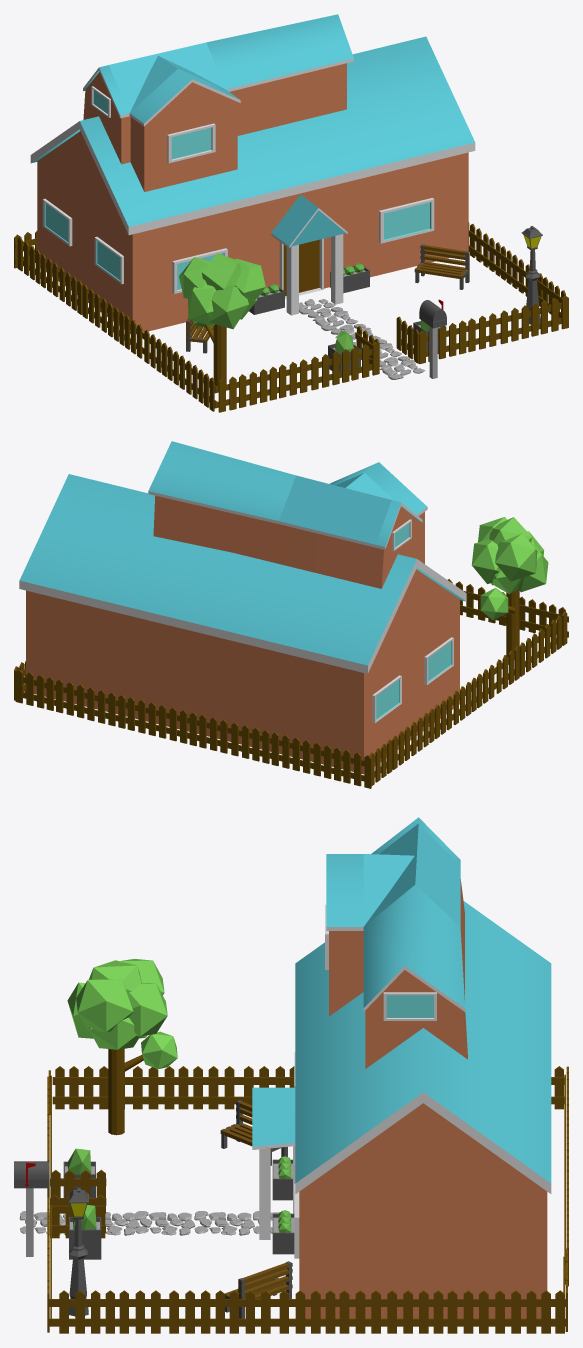
The picture shows the model from 3 angles, top to bottom: view 1: azimuth 30°, elevation 25°; view 2: azimuth 150°, elevation 25°; view 3: azimuth 270°, elevation 25°; orthographic projection. The views are drawn at different scales.
Parts seen in each view (by area): view 1: cit1_pCube16; view 2: cit1_pCube16; view 3: cit1_pCube16.
Part boxes in pixels (<box>): cit1_pCube16: <box>14,14,568,412</box>; cit1_pCube16: <box>14,441,568,788</box>; cit1_pCube16: <box>14,817,568,1333</box>.
Bounding box in the file's own units: 25.08 × 16.54 × 25.97.
